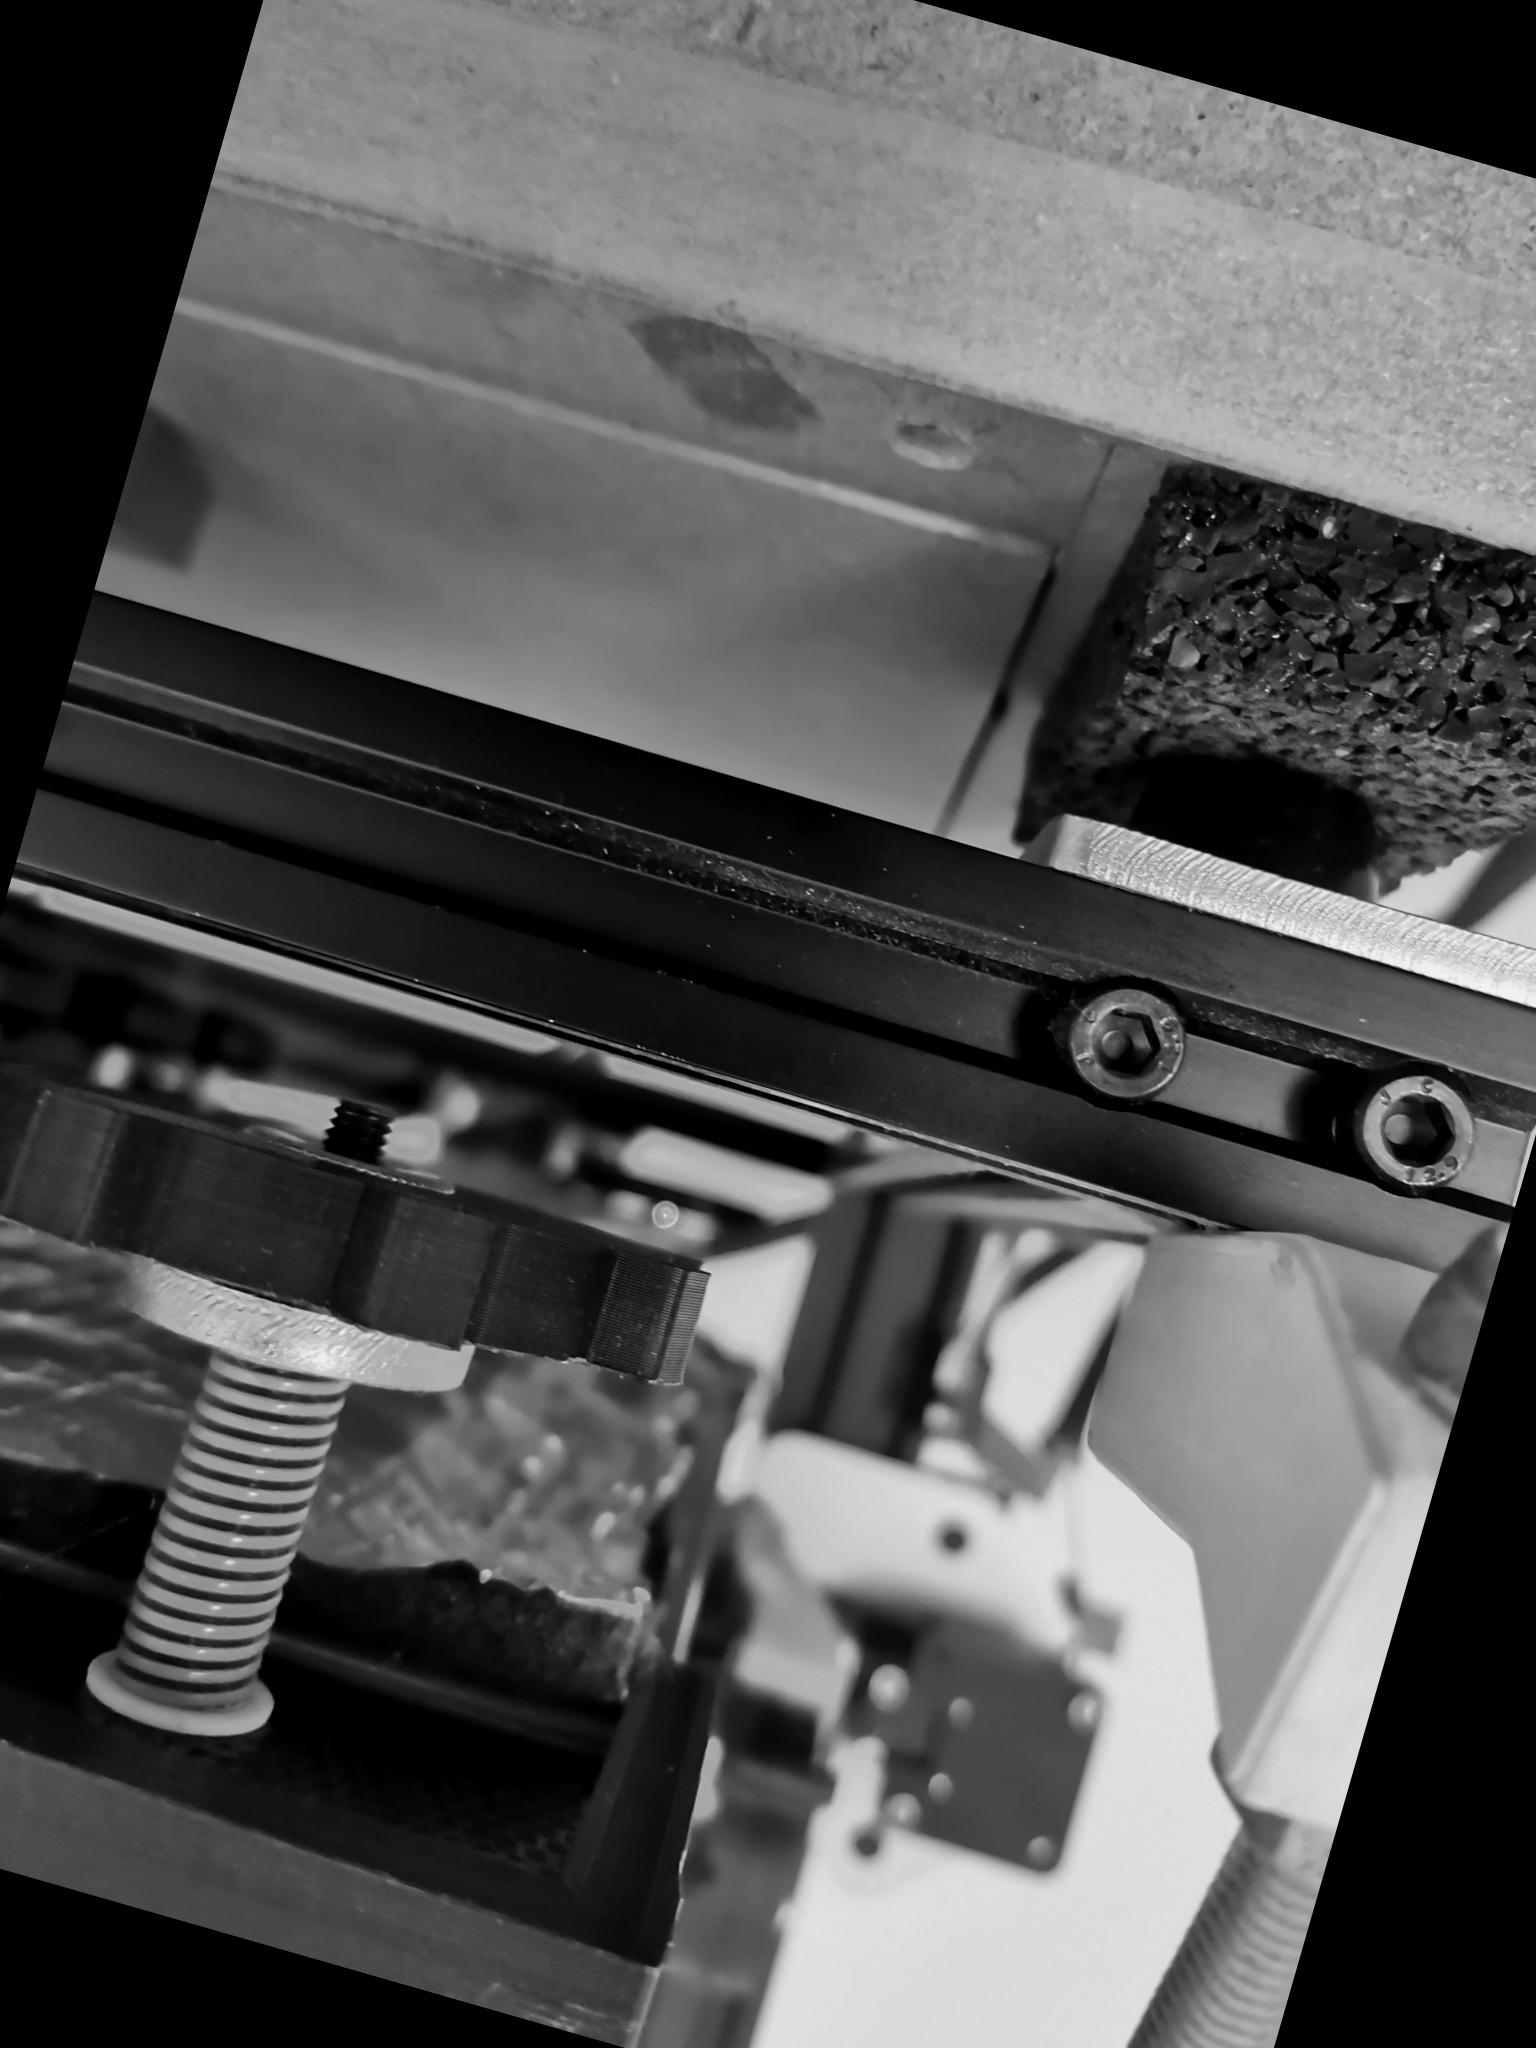allen: (1048, 962, 1208, 1122), (1338, 1052, 1498, 1208)
